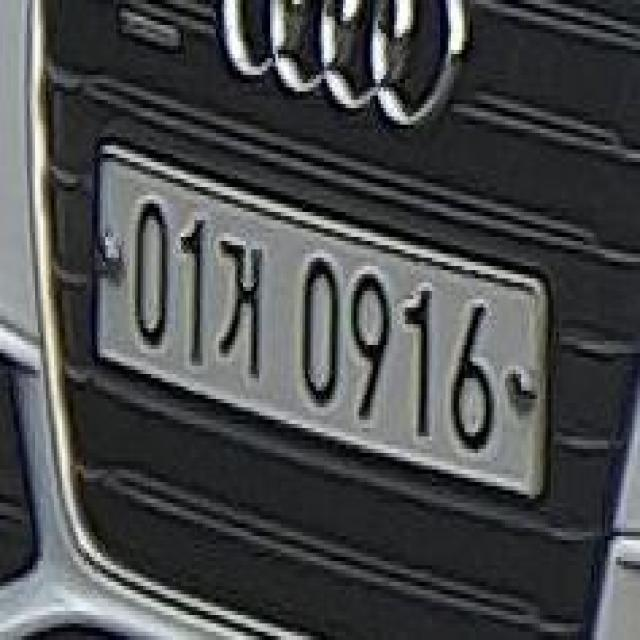illegal_plate: (86, 137, 554, 523)
